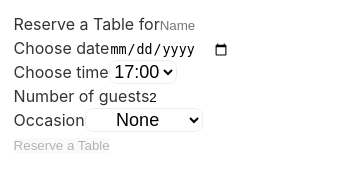
Test: submit button should be active when form is valid
Step 1. Type "John Doe" into the field labelled "Reserve a Table for" → (248,26), box [160,18,337,33]
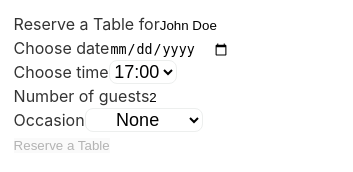
Step 2. Type "2023-11-05" into the date field labelled "Choose date" → (170,49), box [109,41,230,58]
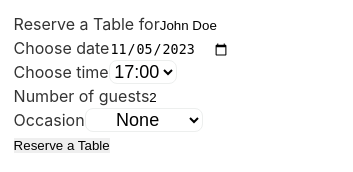
Result: the button is enabled at [14,138,110,153]
